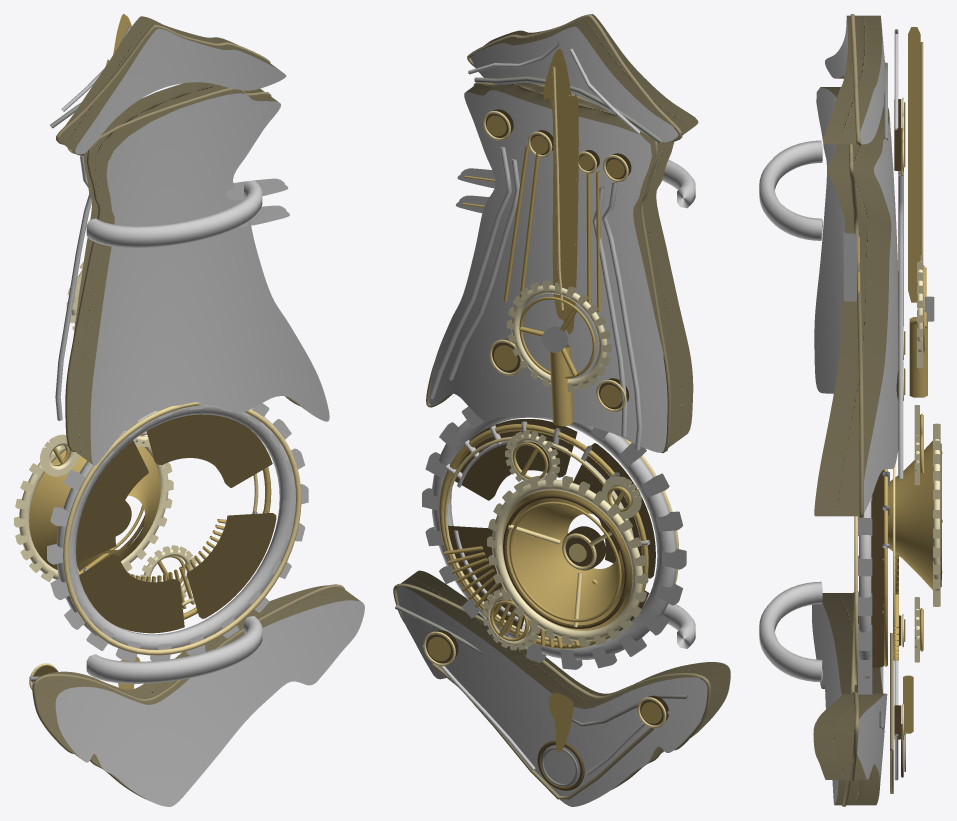
The model's file is blazing_justice.obj.
3 renders of one model, left to right at view 1: azimuth 30°, elevation 25°; view 2: azimuth 150°, elevation 25°; view 3: azimuth 270°, elevation 25°, orthographic.
Parts seen in each view (by area): view 1: blazing_justice; view 2: blazing_justice; view 3: blazing_justice.
Part boxes in pixels (bbox=[...]): blazing_justice: bbox=[14, 14, 364, 806]; blazing_justice: bbox=[393, 14, 730, 806]; blazing_justice: bbox=[759, 14, 942, 806].
Size of the model in its own units: 0.6293 by 1.49 by 0.3154.
